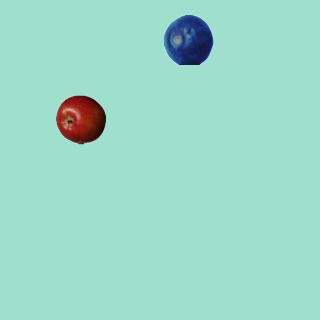Apple Braeburn: (55, 94, 105, 144)
Huckleberry: (163, 14, 213, 64)
